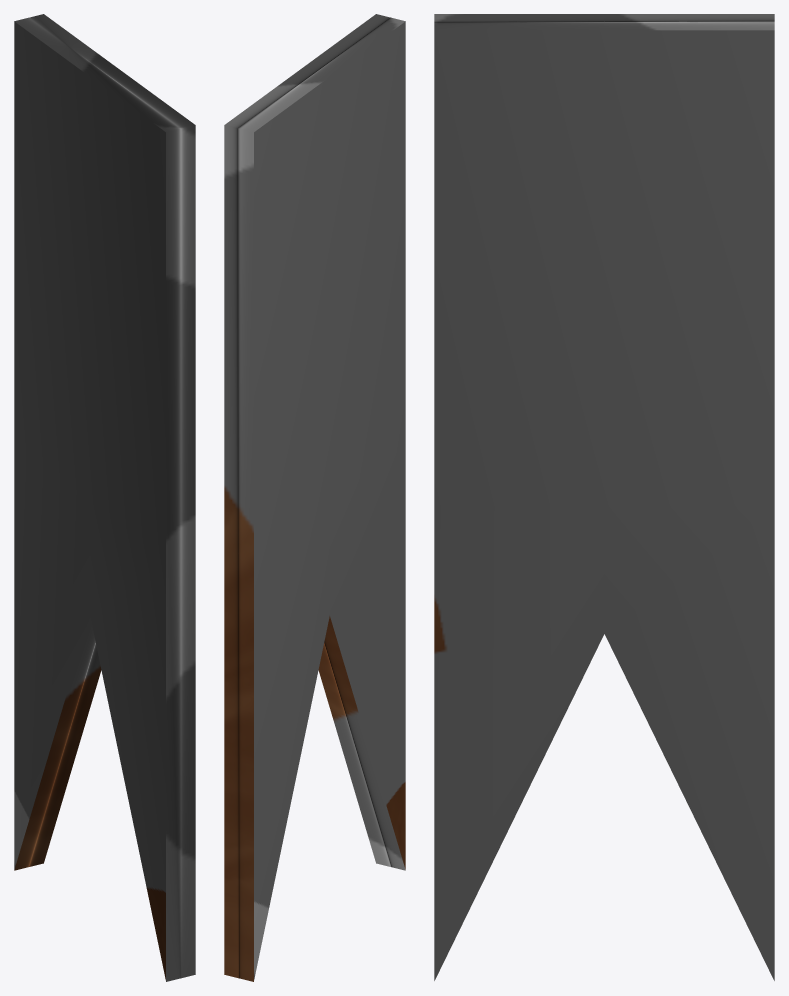
The model's file is Bandeira.fbx.
3 renders of one model, left to right at view 1: azimuth 30°, elevation 25°; view 2: azimuth 150°, elevation 25°; view 3: azimuth 270°, elevation 25°, orthographic. The views are drawn at different scales.
Parts seen in each view (by area): view 1: pCube11; view 2: pCube11; view 3: pCube11.
Boxes of the visible parts, x1,y1,x2,y2 form: pCube11: (14, 14, 195, 981); pCube11: (224, 14, 405, 981); pCube11: (434, 14, 774, 980).
Bounding box in the file's own units: 1.39 × 37.89 × 12.29.
